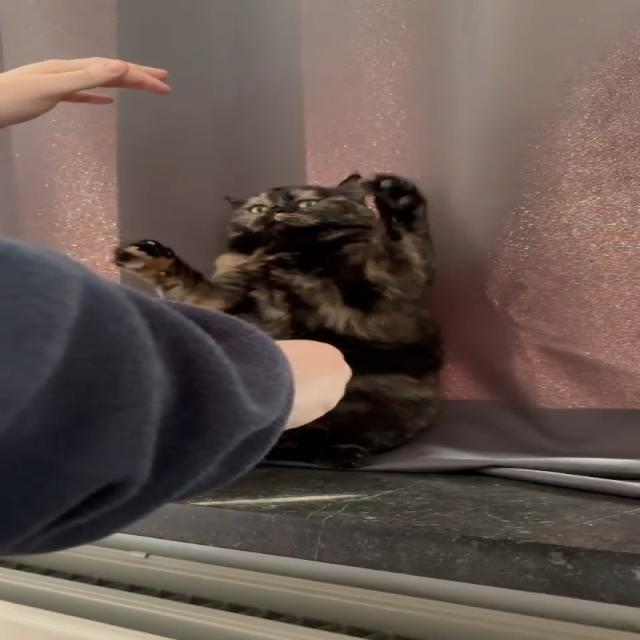authorized: (112, 170, 445, 470), (111, 238, 241, 312)
